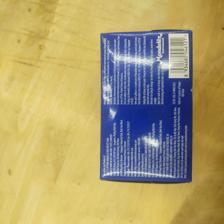Oreo: (95, 27, 194, 183)
